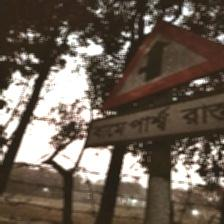Side-road-left: (86, 18, 224, 150)
